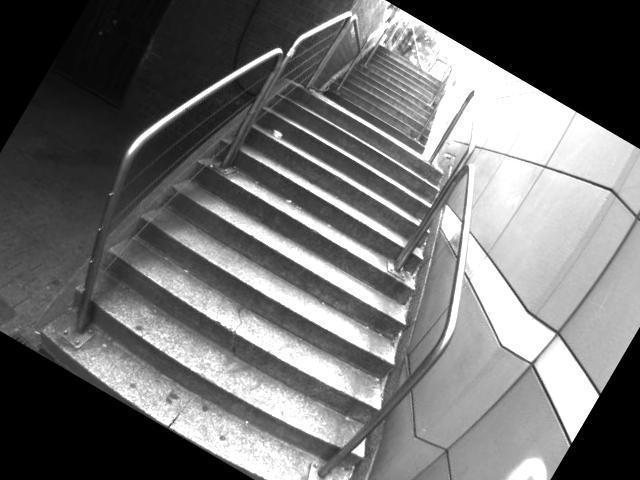Escaleras: (52, 39, 535, 480), (289, 8, 464, 155)
